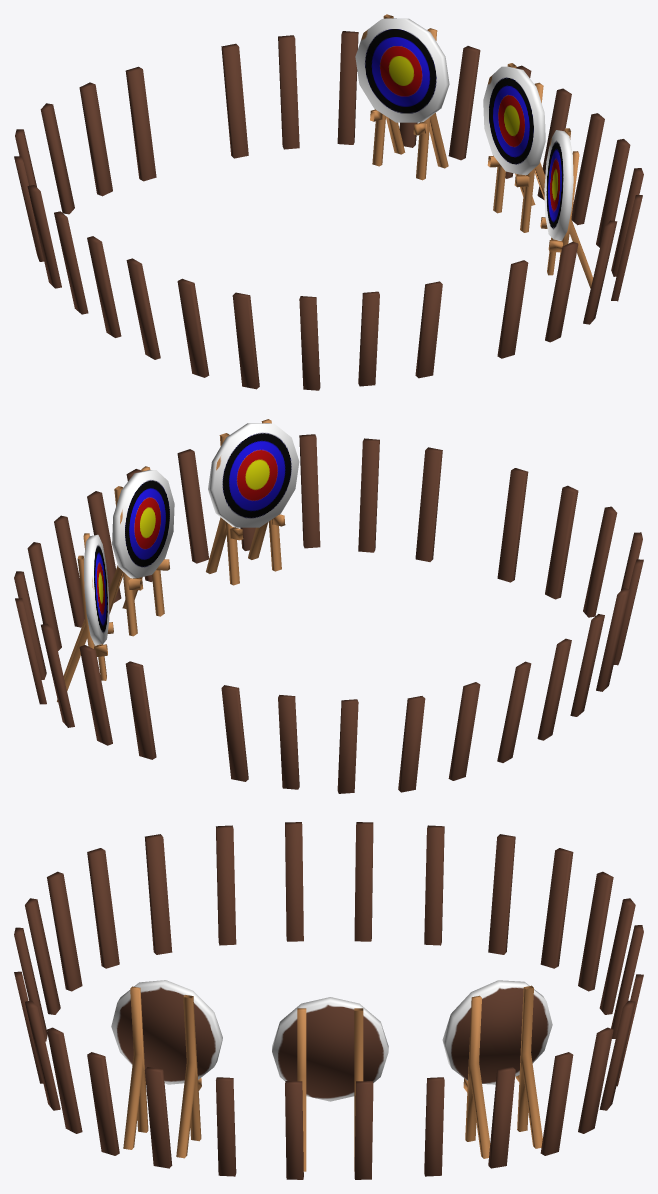
The model's file is bowTrainingGround.fbx.
The picture shows the model from 3 angles, top to bottom: view 1: azimuth 30°, elevation 25°; view 2: azimuth 150°, elevation 25°; view 3: azimuth 270°, elevation 25°; orthographic projection. The views are drawn at different scales.
Visible parts, largest first — view 1: BowTrainingGround; view 2: BowTrainingGround; view 3: BowTrainingGround.
Part boxes in pixels (left/top/right/bottom): BowTrainingGround: left=14, top=14, right=643, bottom=390; BowTrainingGround: left=14, top=419, right=643, bottom=793; BowTrainingGround: left=14, top=822, right=643, bottom=1179.
Size of the model in its own units: 36.43 by 10.3 by 36.91.
